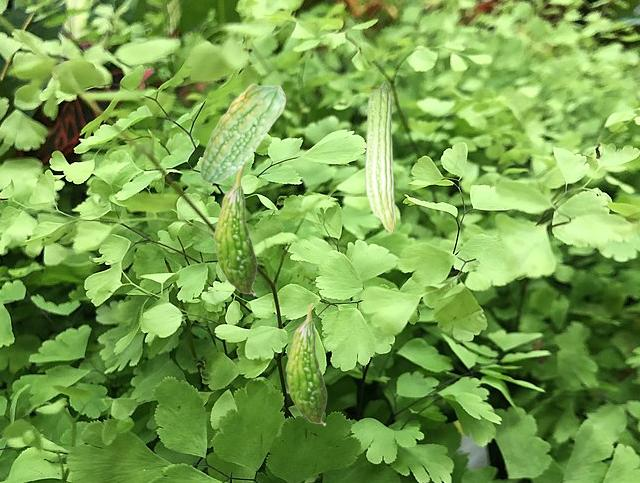ampalaya: (199, 83, 286, 184), (213, 167, 257, 296), (285, 302, 327, 426), (364, 80, 396, 233)
